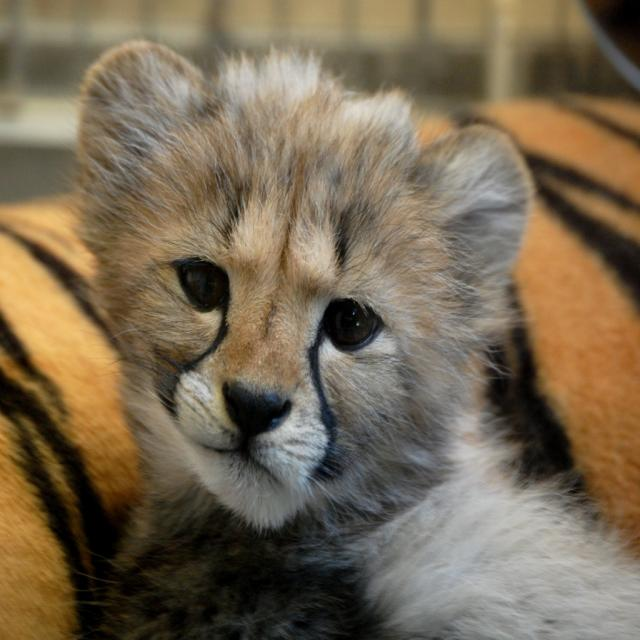Cheetah: (65, 35, 640, 639)
